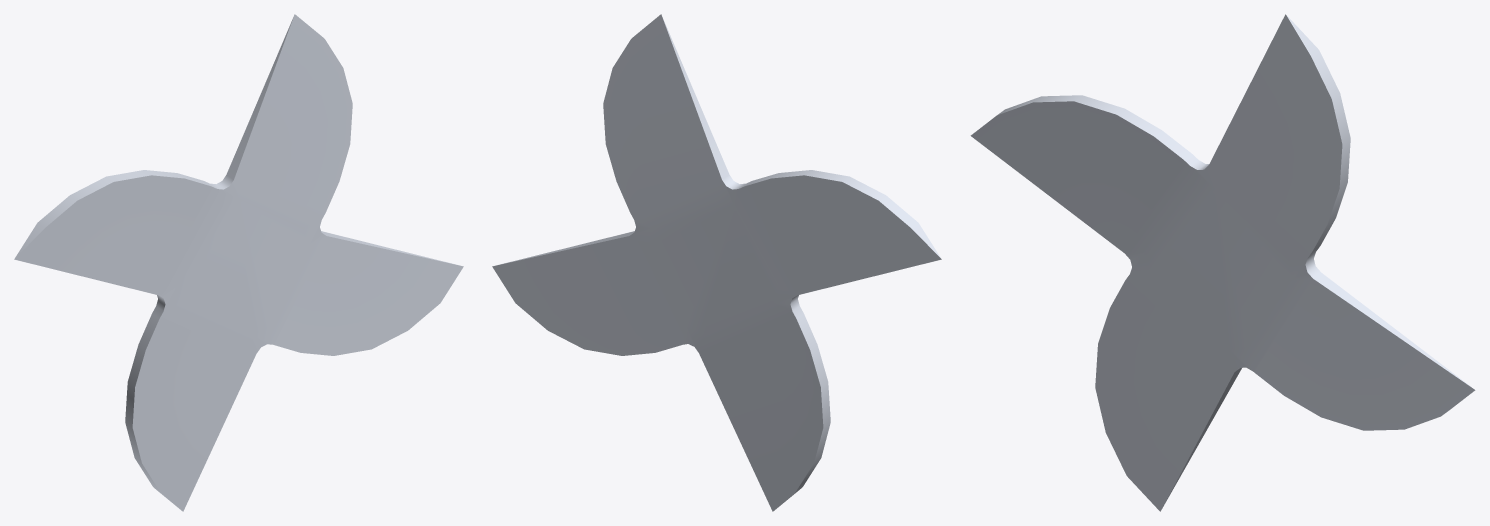
Rendered from Saw B.fbx.
3 renders of one model, left to right at view 1: azimuth 30°, elevation 25°; view 2: azimuth 150°, elevation 25°; view 3: azimuth 330°, elevation 25°, orthographic. The views are drawn at different scales.
Visible parts, largest first — view 1: Saw B; view 2: Saw B; view 3: Saw B.
Part boxes in pixels (box(x1,y1,x2,y2)): Saw B: box(14, 14, 463, 511); Saw B: box(492, 14, 941, 511); Saw B: box(970, 14, 1475, 511).
Size of the model in its own units: 136 by 136 by 3.89.
